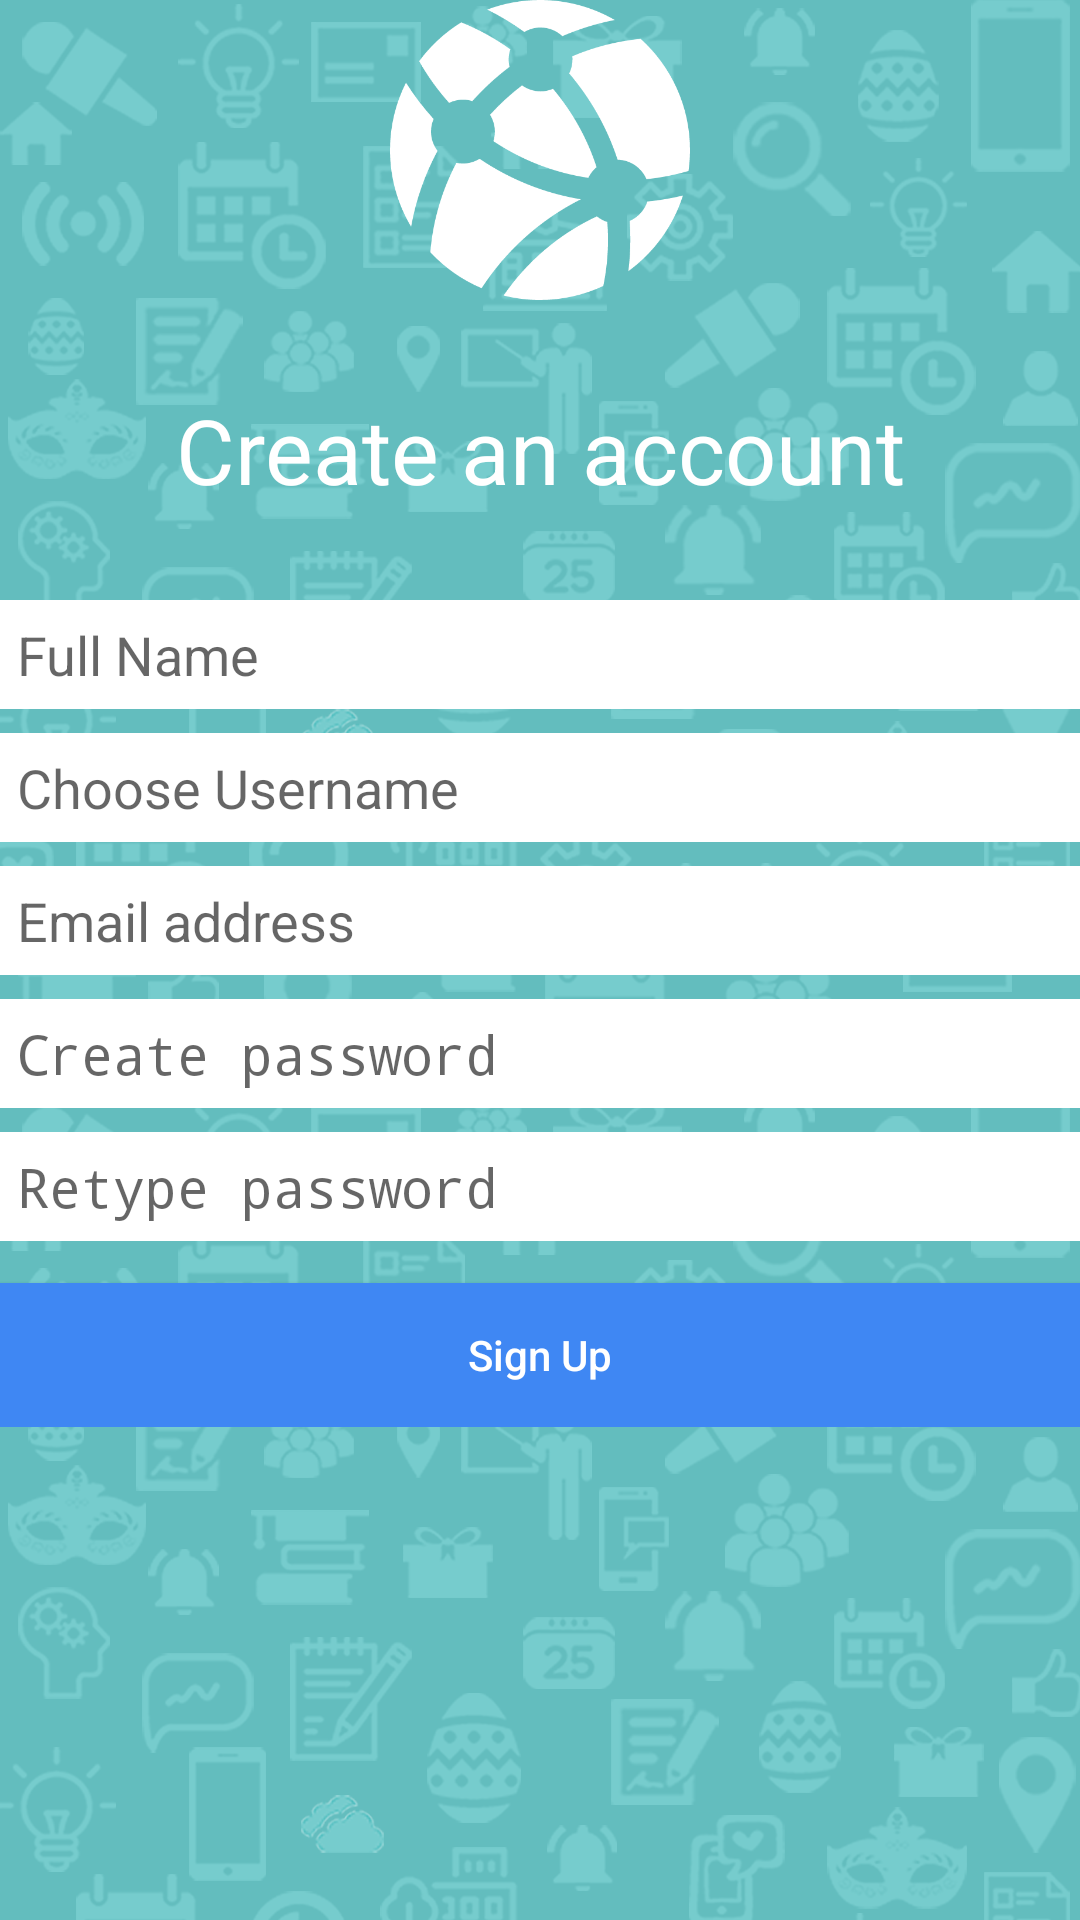

Where to tap for icons on this 1080x1920 app screen, as (x=x, y=y):
network connection: (x=540, y=150)
